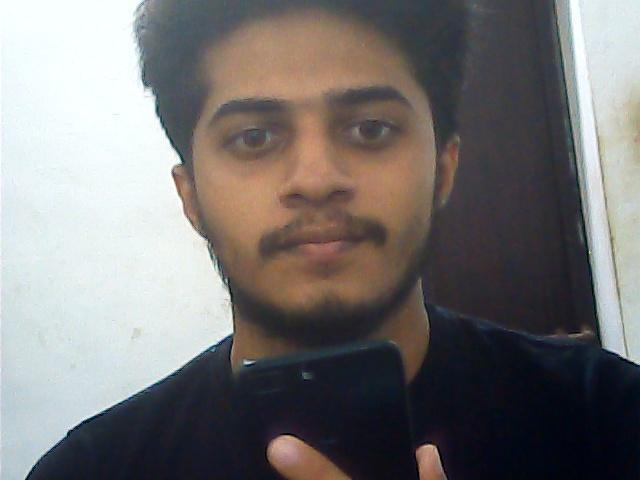PhoneUse: (232, 336, 440, 464)
SafeDriving: (326, 96, 414, 156), (212, 108, 299, 162)
